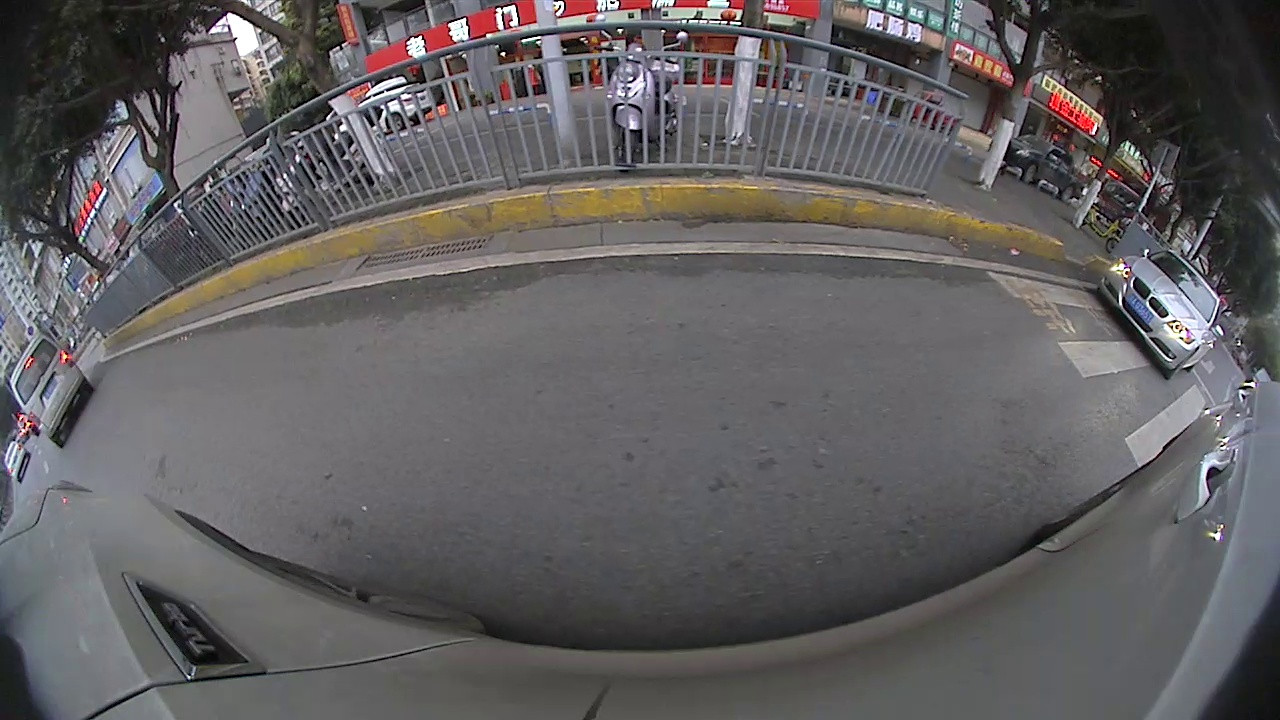car: (971, 190, 1151, 358), (1155, 378, 1278, 567), (231, 89, 410, 197), (3, 267, 96, 387)
rear: (1159, 450, 1197, 493), (1072, 316, 1110, 353)
